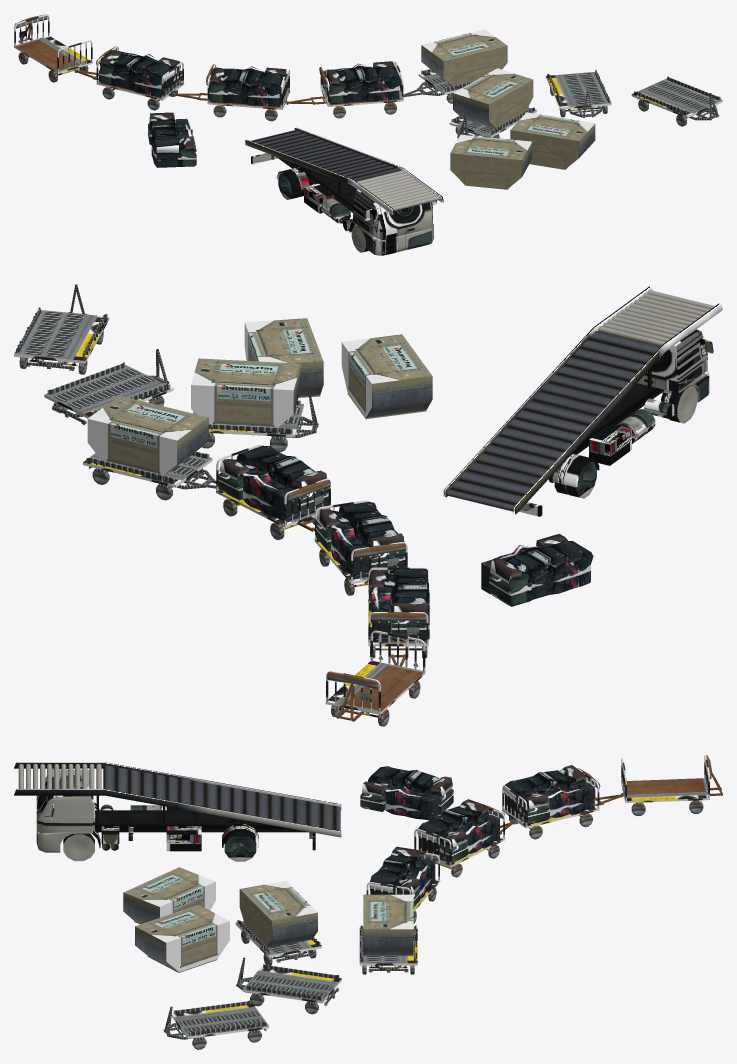
The model's file is cargo_ramp.glb.
3 views of the same model, one above another, from view 1: azimuth 30°, elevation 25°; view 2: azimuth 150°, elevation 25°; view 3: azimuth 270°, elevation 25° (orthographic). The views are drawn at different scales.
Parts seen in each view (by area): view 1: container_AKH (×4), Container_platform (×4), Cube.003, cargo_ramp_belt, Bag_03_01, Bag_04_01, Bag_02_01, trailer_01, box (×2), Bag_01_01, Cube.004, rails_01 (+8 smaller); view 2: container_AKH (×4), cargo_ramp_belt, Container_platform (×4), Bag_01_01, box (×2), Cube.003, trailer_01, Bag_04_01, Bag_02_01, Bag_03_01, Bag_04_03, Cube.007 (+10 smaller); view 3: container_AKH (×4), Container_platform (×4), cargo_ramp_belt, box (×2), Cube.003, Cube.004, trailer_01, Bag_01_01, Bag_02_01, Bag_03_01, Bag_01_03, Bag_04_01 (+12 smaller).
Boxes of the visible parts, left/top/right/bottom form: container_AKH (×4): left=421, top=29, right=595, bottom=189; Container_platform (×4): left=418, top=69, right=722, bottom=137; Cube.003: left=352, top=189, right=433, bottom=255; cargo_ramp_belt: left=251, top=130, right=400, bottom=181; Bag_03_01: left=209, top=67, right=284, bottom=106; Bag_04_01: left=325, top=66, right=401, bottom=104; Bag_02_01: left=99, top=50, right=174, bottom=97; trailer_01: left=14, top=36, right=92, bottom=82; box (×2): left=245, top=127, right=443, bottom=214; Bag_01_01: left=148, top=112, right=179, bottom=167; Cube.004: left=276, top=156, right=357, bottom=212; rails_01: left=14, top=14, right=92, bottom=71; container_AKH (×4): left=87, top=318, right=432, bottom=475; cargo_ramp_belt: left=447, top=331, right=660, bottom=511; Container_platform (×4): left=14, top=307, right=303, bottom=487; Bag_01_01: left=489, top=540, right=593, bottom=606; box (×2): left=443, top=286, right=722, bottom=514; Cube.003: left=637, top=329, right=709, bottom=402; trailer_01: left=325, top=661, right=425, bottom=714; Bag_04_01: left=236, top=445, right=328, bottom=516; Bag_02_01: left=391, top=568, right=429, bottom=640; Bag_03_01: left=339, top=502, right=405, bottom=573; Bag_04_03: left=243, top=469, right=297, bottom=521; Cube.007: left=589, top=423, right=631, bottom=465; container_AKH (×4): left=123, top=867, right=413, bottom=972; Container_platform (×4): left=171, top=920, right=417, bottom=1038; cargo_ramp_belt: left=103, top=765, right=340, bottom=830; box (×2): left=14, top=762, right=341, bottom=837; Cube.003: left=36, top=768, right=93, bottom=852; Cube.004: left=95, top=810, right=310, bottom=832; trailer_01: left=621, top=778, right=709, bottom=816; Bag_01_01: left=368, top=766, right=453, bottom=815; Bag_02_01: left=502, top=765, right=586, bottom=817; Bag_03_01: left=417, top=799, right=489, bottom=854; Bag_01_03: left=385, top=785, right=438, bottom=820; Bag_04_01: left=369, top=846, right=421, bottom=894.
Bounding box in the file's own units: 21.77 × 2.68 × 24.99.
Materials: 7 (7 with a texture image).
